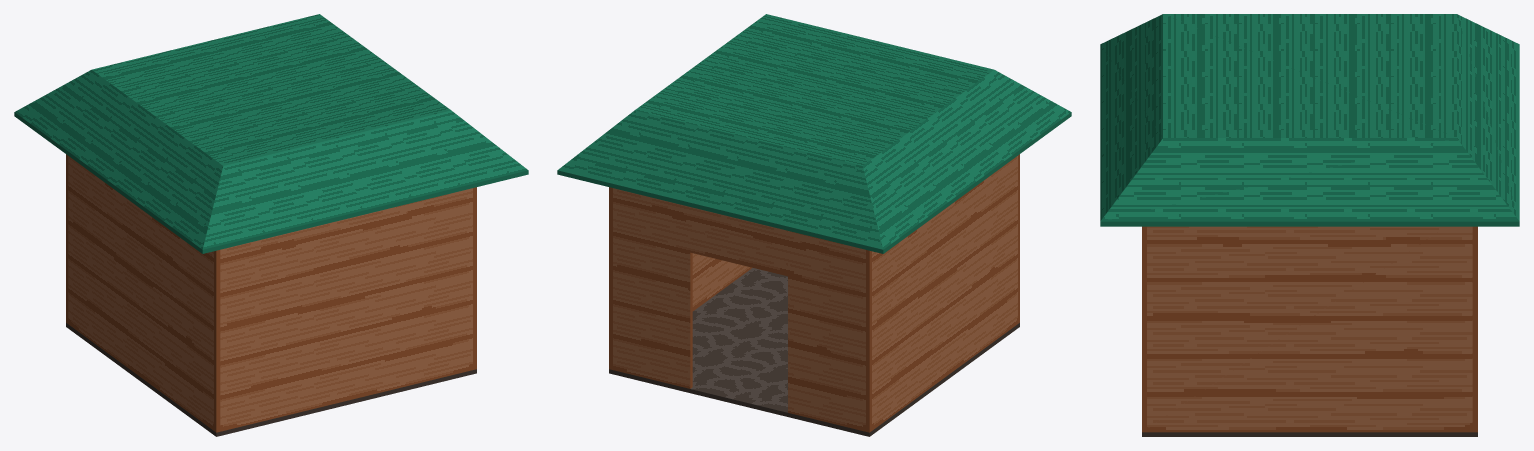
Rendered from House.gltf.
The picture shows the model from 3 angles, left to right: view 1: azimuth 30°, elevation 25°; view 2: azimuth 150°, elevation 25°; view 3: azimuth 270°, elevation 25°; orthographic projection. The views are drawn at different scales.
Parts seen in each view (by area): view 1: cuboid (×6); view 2: cuboid (×7); view 3: cuboid (×4).
Part boxes in pixels (bbox=[...]): cuboid (×6): bbox=[14, 14, 528, 436]; cuboid (×7): bbox=[557, 14, 1071, 436]; cuboid (×4): bbox=[1100, 14, 1519, 436].
Bounding box in the file's own units: 5 × 3.81 × 5.
1 material, 1 textured.
